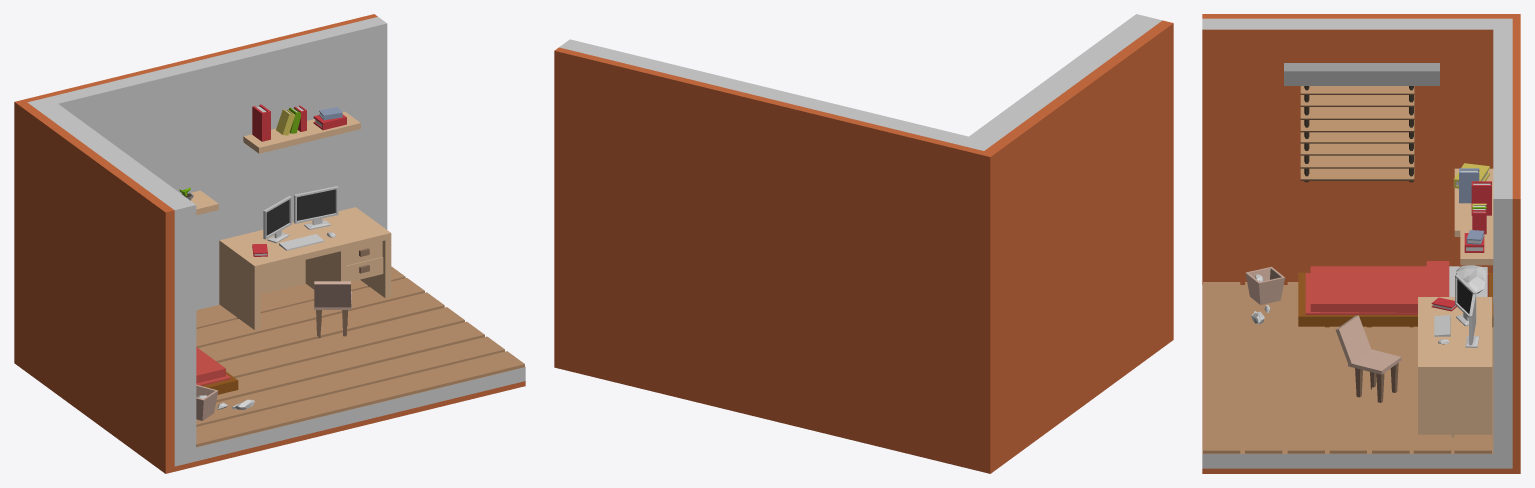
File: Bedroom - orange.fbx
3 renders of one model, left to right at view 1: azimuth 30°, elevation 25°; view 2: azimuth 150°, elevation 25°; view 3: azimuth 270°, elevation 25°, orthographic. The views are drawn at different scales.
Visible parts, largest first — view 1: Scene, Escritorio, Books 2, Computer.001, Chair, Bed, Computer.002, Books 2.002, Trasher, Books 2.001, Books 2.003; view 2: Scene; view 3: Scene, Window, Bed, Escritorio, Chair, Books 2, Trasher, Computer.002, Books 2.001, Books 1.002, Books 1, Books 2.003 (+3 smaller).
Part boxes in pixels (x1,y1,x2,y2): Scene: [14, 14, 525, 473]; Escritorio: [219, 207, 391, 329]; Books 2: [243, 111, 360, 153]; Computer.001: [294, 186, 338, 229]; Chair: [314, 281, 351, 338]; Bed: [196, 347, 238, 394]; Computer.002: [263, 196, 291, 243]; Books 2.002: [276, 105, 306, 135]; Trasher: [196, 384, 218, 420]; Books 2.001: [252, 104, 270, 141]; Books 2.003: [313, 107, 346, 130]; Scene: [554, 14, 1173, 473]; Scene: [1202, 14, 1520, 473]; Window: [1284, 63, 1439, 182]; Bed: [1298, 261, 1493, 327]; Escritorio: [1418, 297, 1492, 437]; Chair: [1335, 315, 1401, 402]; Books 2: [1460, 207, 1493, 265]; Trasher: [1245, 266, 1284, 304]; Computer.002: [1455, 274, 1476, 326]; Books 2.001: [1471, 181, 1491, 215]; Books 1.002: [1459, 168, 1479, 203]; Books 1: [1454, 168, 1493, 236]; Books 2.003: [1464, 230, 1484, 252].
Bounding box in the file's own units: 308 × 214 × 224.
